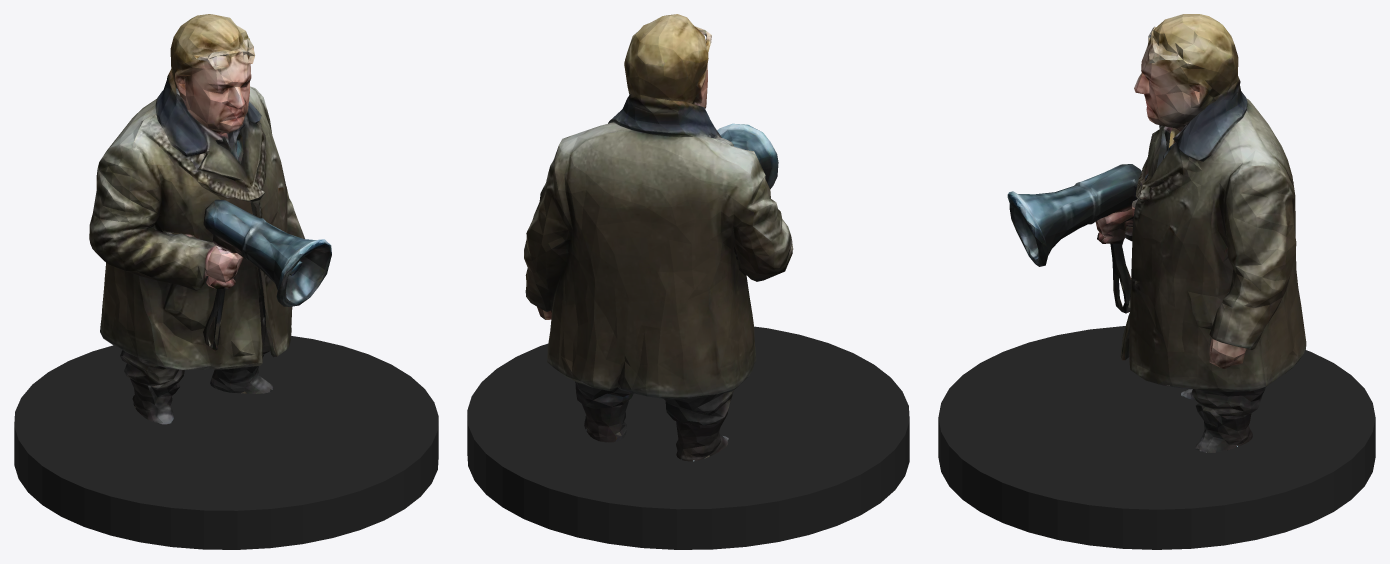
The model's file is brian-lee.glb.
3 renders of one model, left to right at view 1: azimuth 30°, elevation 25°; view 2: azimuth 150°, elevation 25°; view 3: azimuth 270°, elevation 25°, orthographic. The views are drawn at different scales.
Parts seen in each view (by area): view 1: base, figure; view 2: figure, base; view 3: base, figure.
Boxes of the visible parts, x1,y1,x2,y2 form: base: (14, 336, 438, 549); figure: (89, 14, 331, 424); figure: (524, 14, 793, 461); base: (467, 326, 909, 549); base: (938, 326, 1375, 549); figure: (1007, 14, 1306, 452).
Size of the model in its own units: 1.18 by 1.32 by 1.18.
Materials: 2 (1 with a texture image).
